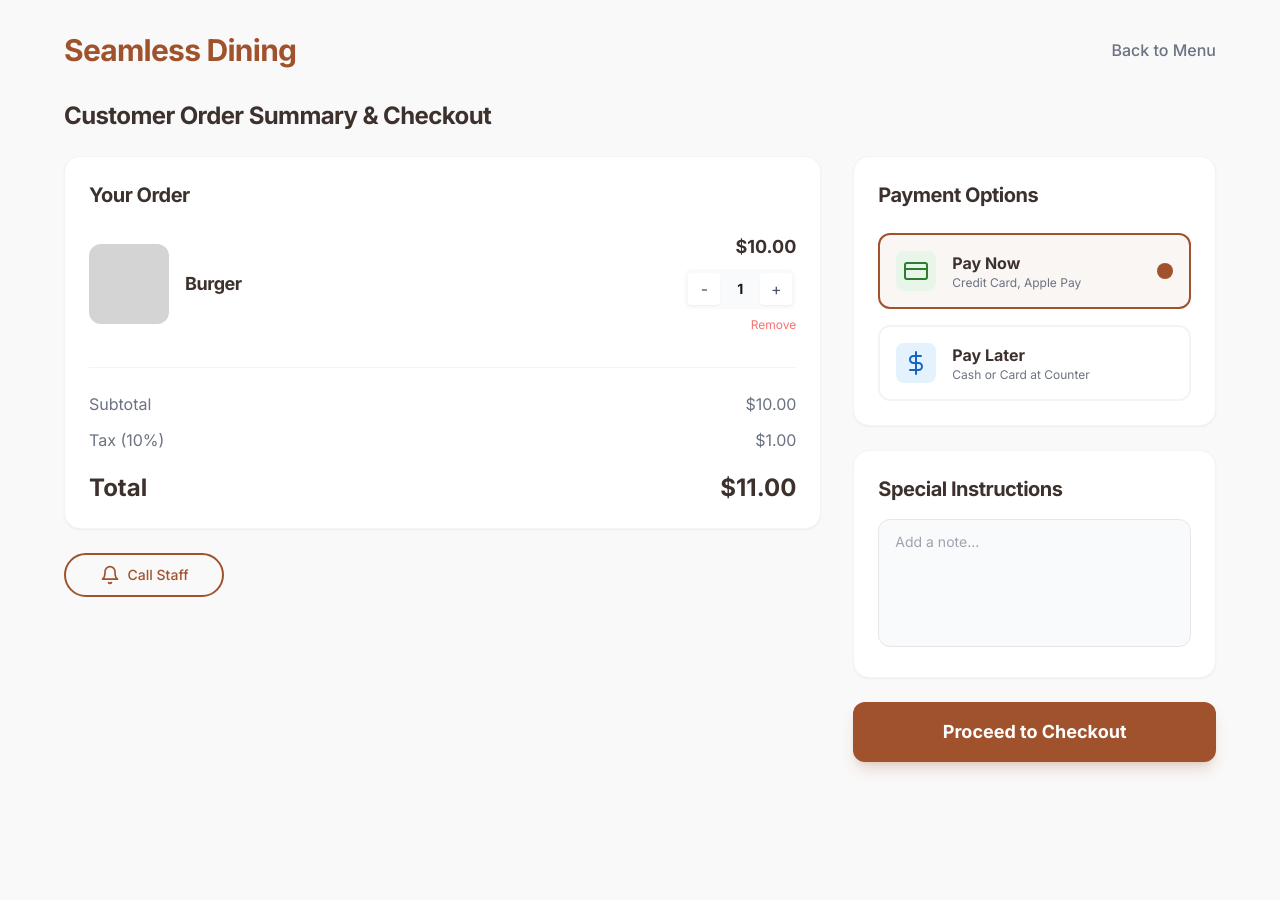
Test: Cart Component › allows changing payment method
Step 1. Click the radio button labelled "Pay Later Cash or Card at Counter" → (916, 363), box [878, 325, 1191, 401]
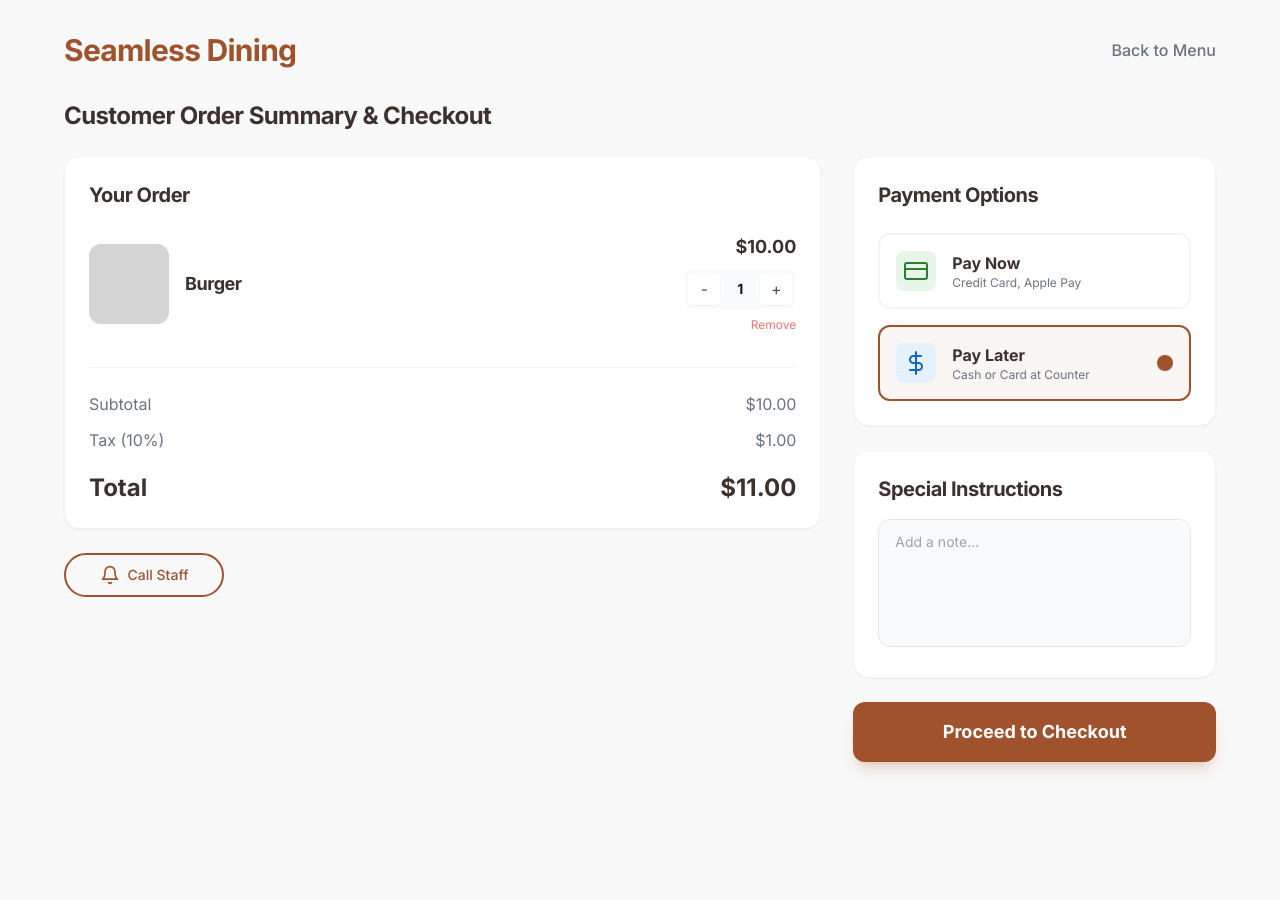
Now the radio button labelled "Pay Later Cash or Card at Counter" is checked, box [878, 325, 1191, 401]
Now the radio button labelled "Pay Now Credit Card, Apple Pay" is not checked, box [878, 233, 1191, 309]
